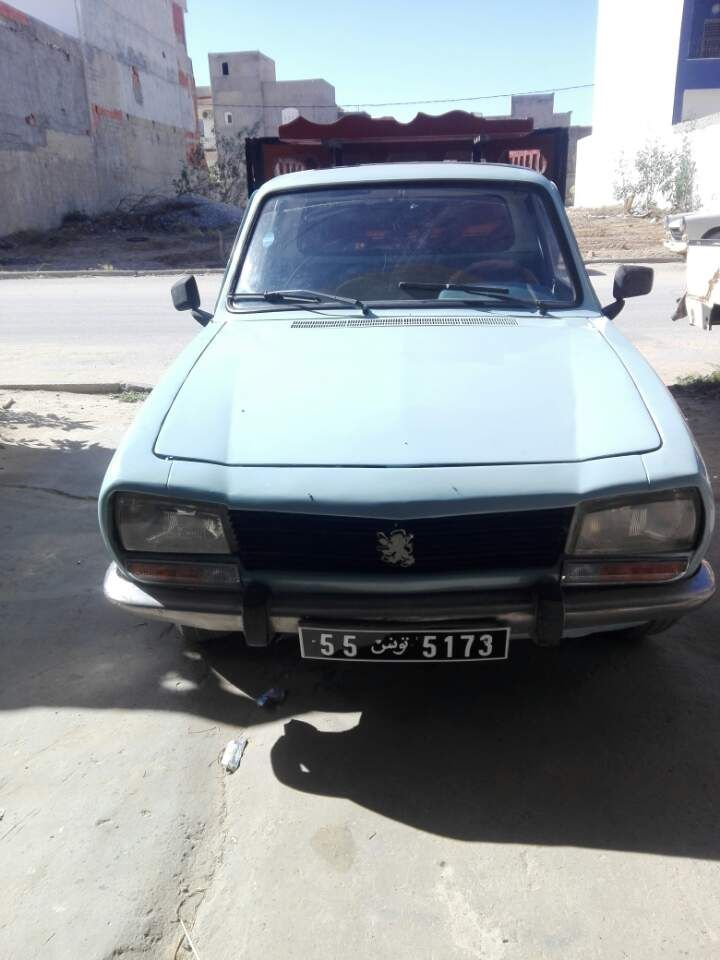LP: (296, 624, 513, 663)
